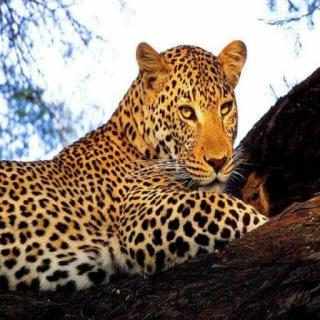Leopard: (5, 26, 267, 296)
